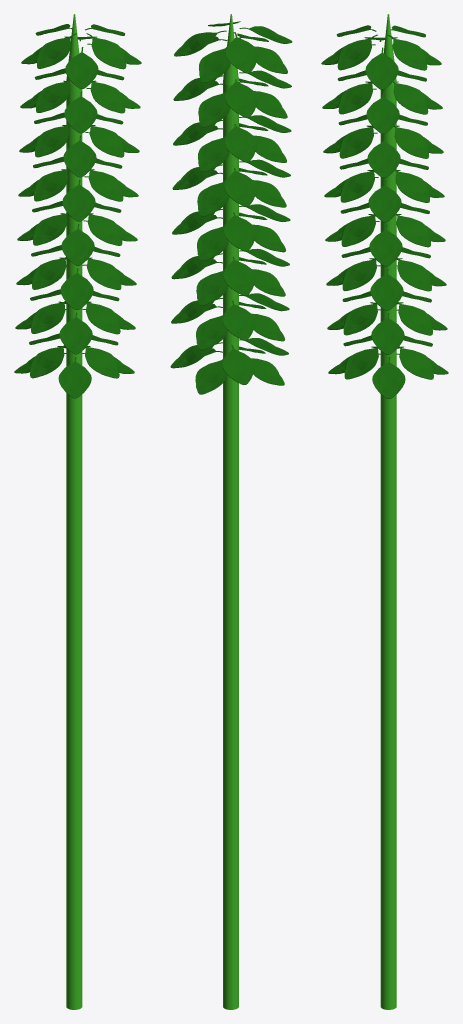
File: Jute.fbx
3 views of the same model, side by side, from view 1: azimuth 90°, elevation 25°; view 2: azimuth 150°, elevation 25°; view 3: azimuth 270°, elevation 25° (orthographic).
Visible parts, largest first — view 1: Leaf, JuteStem; view 2: Leaf, JuteStem; view 3: Leaf, JuteStem.
Boxes of the visible parts, box(x1,y1,x2,y2) form: Leaf: box(14, 24, 141, 398); JuteStem: box(66, 14, 82, 1009); Leaf: box(170, 21, 292, 394); JuteStem: box(223, 14, 238, 1009); Leaf: box(321, 25, 448, 398); JuteStem: box(380, 14, 396, 1009).
Bounding box in the file's own units: 224 × 2000 × 232.
